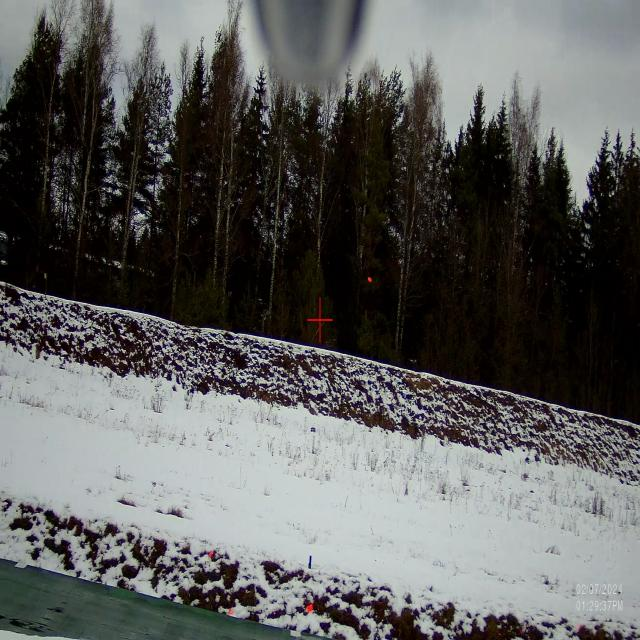entire: (366, 271, 376, 289)
